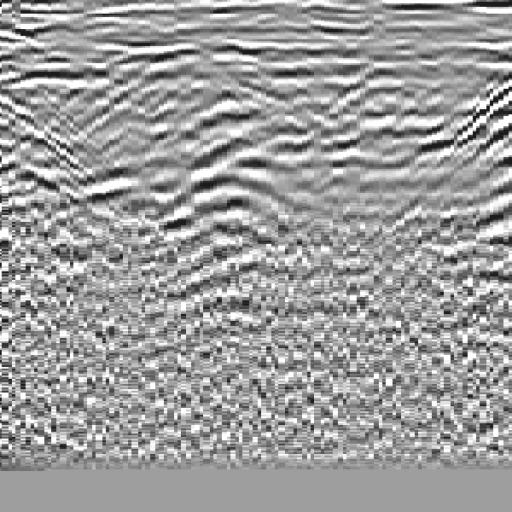metalic: (41, 33, 187, 277)
nonmetalic: (409, 52, 512, 273)
